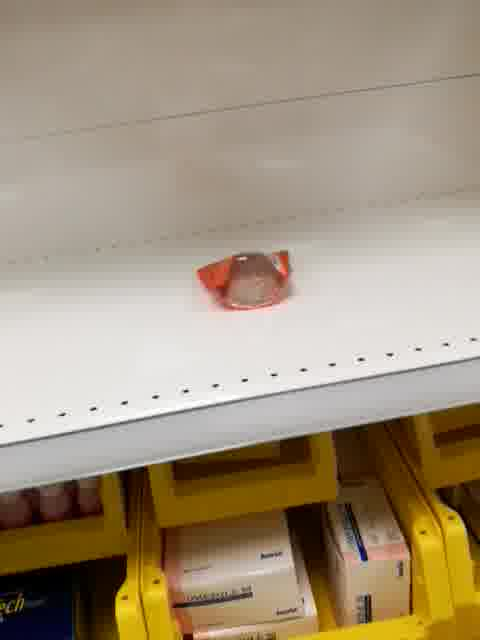whitechia: (193, 249, 292, 311)
